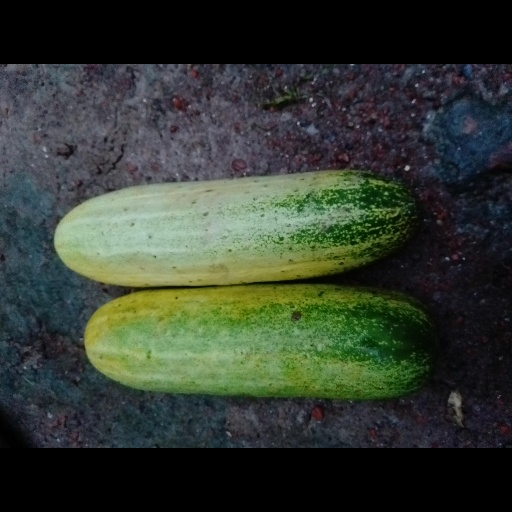concombre: (52, 170, 423, 289), (84, 283, 443, 401)
